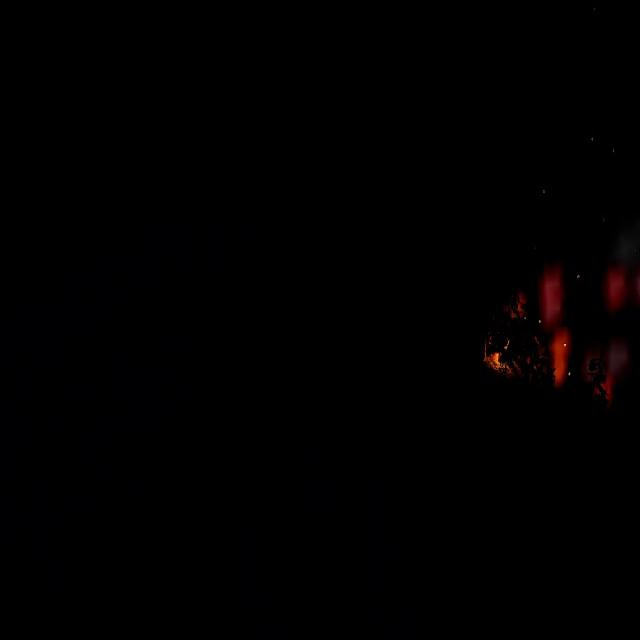smoke: (504, 242, 638, 406)
